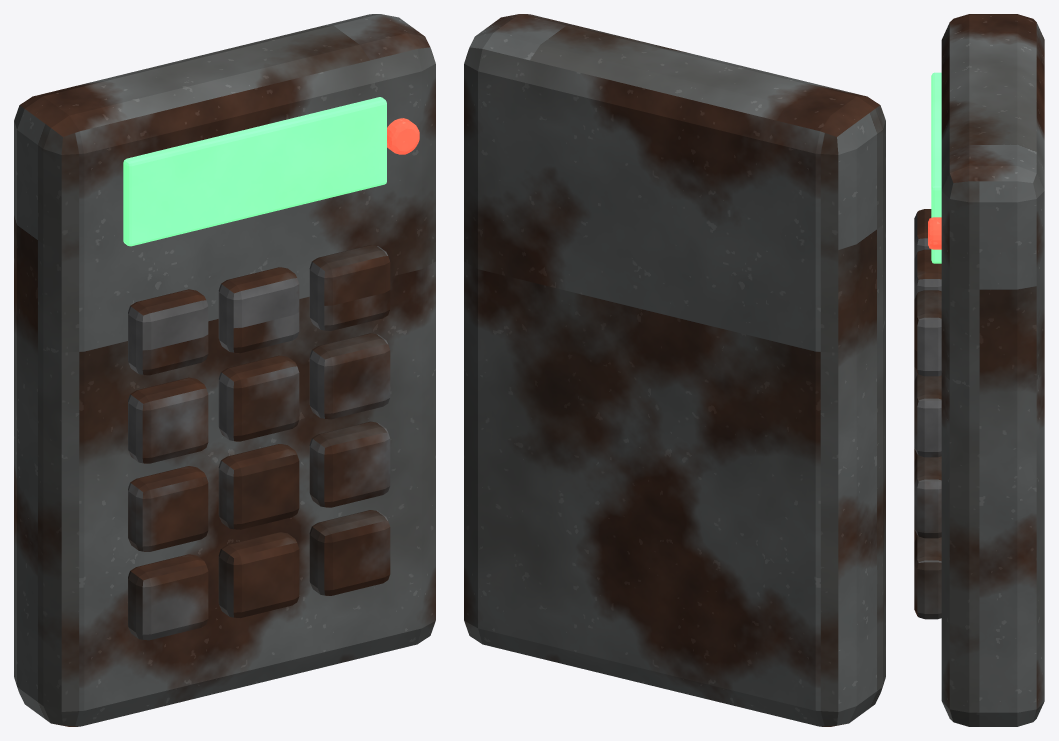
File: G10_door_code_keypad.glb
The picture shows the model from 3 angles, left to right: view 1: azimuth 30°, elevation 25°; view 2: azimuth 150°, elevation 25°; view 3: azimuth 270°, elevation 25°; orthographic projection. The views are drawn at different scales.
Parts seen in each view (by area): view 1: G10_door_code_keypad; view 2: G10_door_code_keypad; view 3: G10_door_code_keypad.
Boxes of the visible parts, bbox=[...] form: G10_door_code_keypad: bbox=[14, 14, 435, 726]; G10_door_code_keypad: bbox=[464, 14, 885, 726]; G10_door_code_keypad: bbox=[914, 14, 1044, 726].
Bounding box in the file's own units: 0.2 × 0.3 × 0.0633.
Materials: 4 (4 with a texture image).
